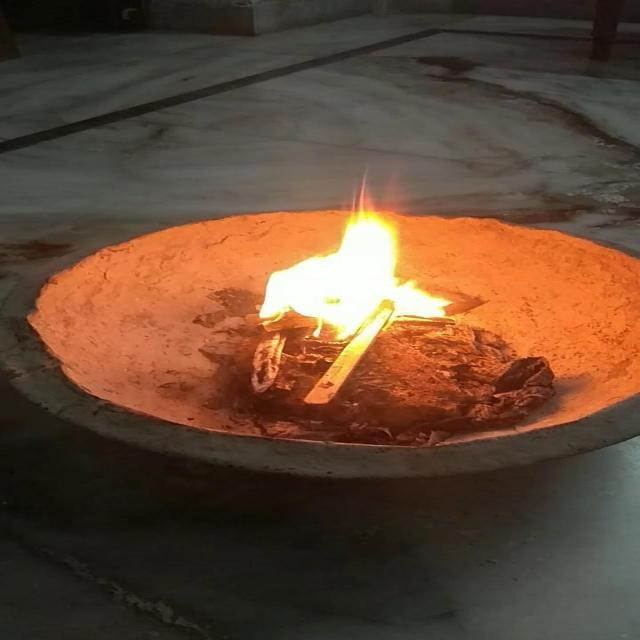Fire: (242, 172, 456, 346)
